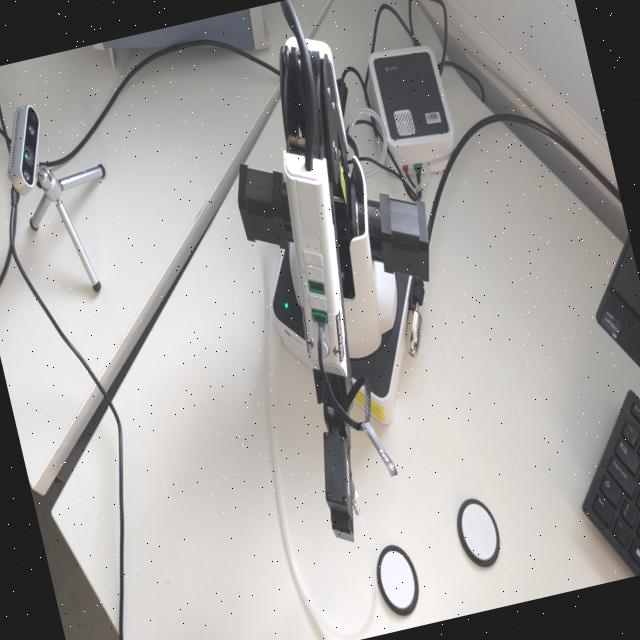Robot-end-effector-HF8z: (308, 425, 372, 549)
